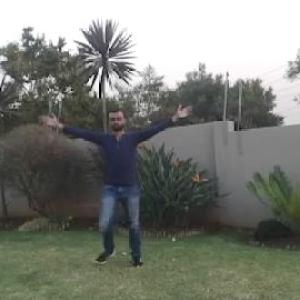takeoff: (52, 99, 190, 260)
